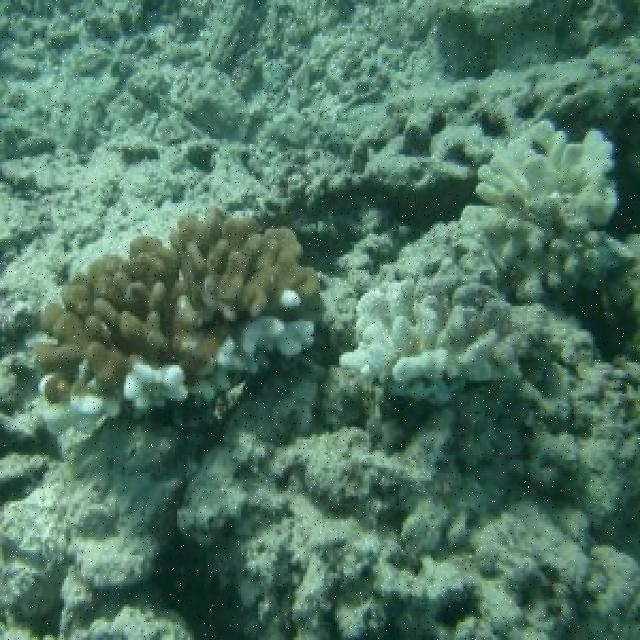Bleached: (340, 274, 538, 409), (459, 112, 630, 240), (125, 320, 313, 413)
Healthy: (23, 193, 329, 427)
